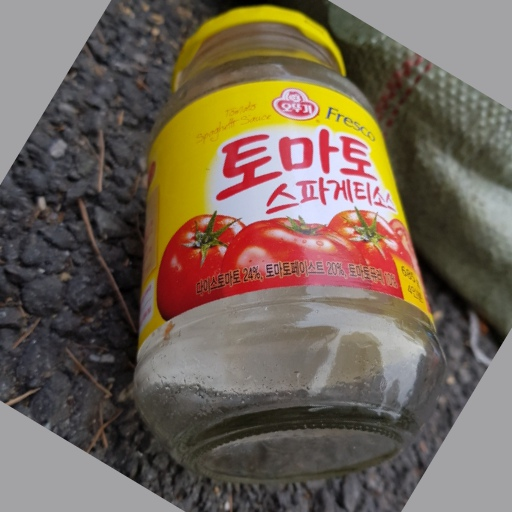Glass_5: (125, 1, 449, 471)
